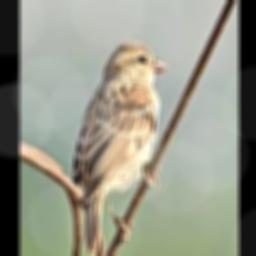Sparrow: (73, 41, 169, 256)
